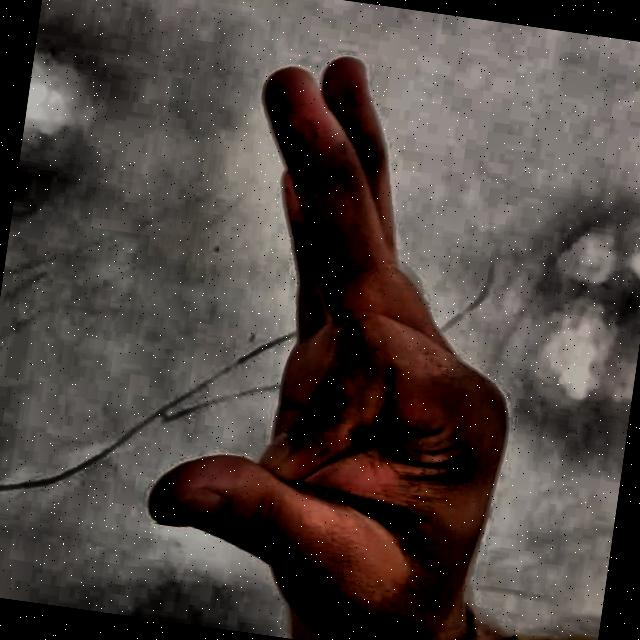Uo: (69, 0, 635, 640)
